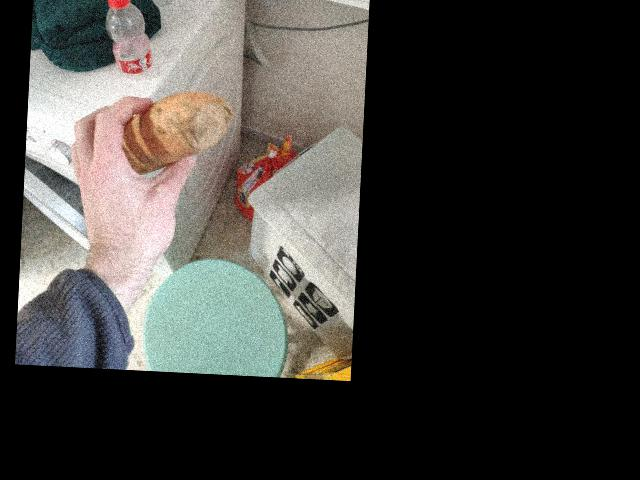sweet_potato: (123, 87, 211, 175)
